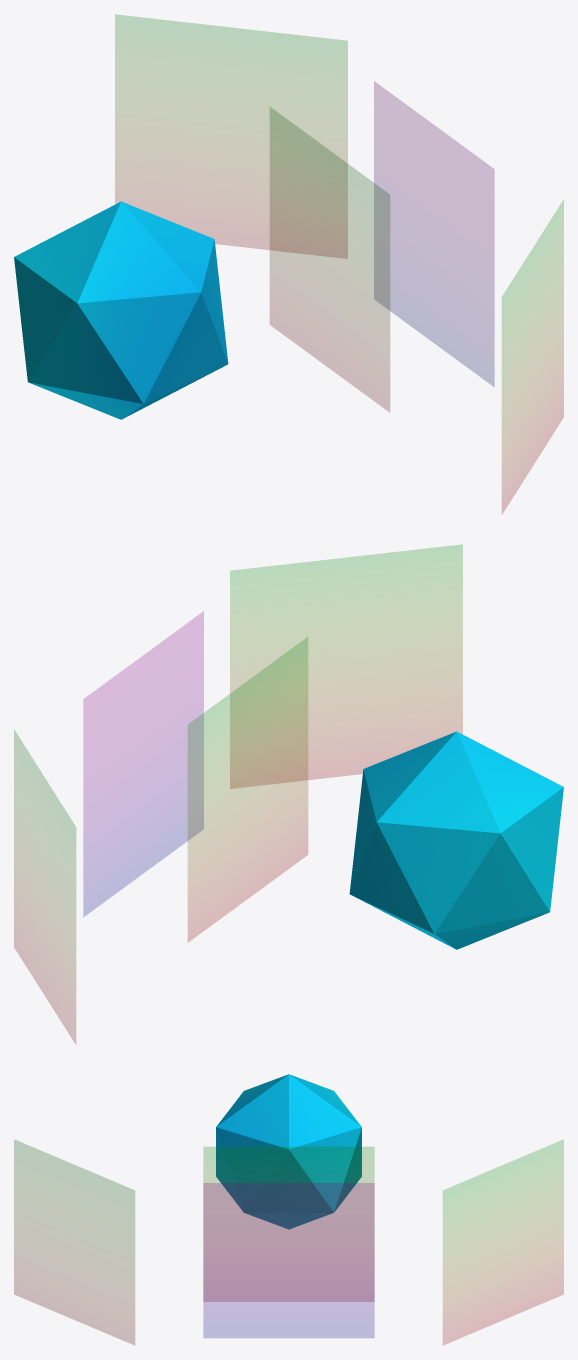
3 views of the same model, one above another, from view 1: azimuth 30°, elevation 25°; view 2: azimuth 150°, elevation 25°; view 3: azimuth 270°, elevation 25° (orthographic). The views are drawn at different scales.
Visible parts, largest first — view 1: 平面, 棱角球, 平面.003, 平面.002, 平面.001; view 2: 平面.001, 棱角球, 平面.003, 平面.002, 平面; view 3: 平面.003, 平面.002, 平面, 平面.001, 棱角球.
Boxes of the visible parts, <box> form: 平面: <box>115,14,347,258</box>; 棱角球: <box>14,201,228,419</box>; 平面.003: <box>374,81,494,386</box>; 平面.002: <box>270,107,389,411</box>; 平面.001: <box>502,200,563,513</box>; 平面.001: <box>230,544,462,788</box>; 棱角球: <box>349,731,563,949</box>; 平面.003: <box>83,611,203,916</box>; 平面.002: <box>188,637,307,941</box>; 平面: <box>14,730,75,1043</box>; 平面.003: <box>203,1183,374,1337</box>; 平面.002: <box>203,1147,374,1301</box>; 平面: <box>443,1140,563,1344</box>; 平面.001: <box>14,1140,134,1344</box>; 棱角球: <box>216,1074,361,1229</box>.
Bounding box in the file's own units: 4.1 × 2 × 6.41.
5 materials, 5 textured.
